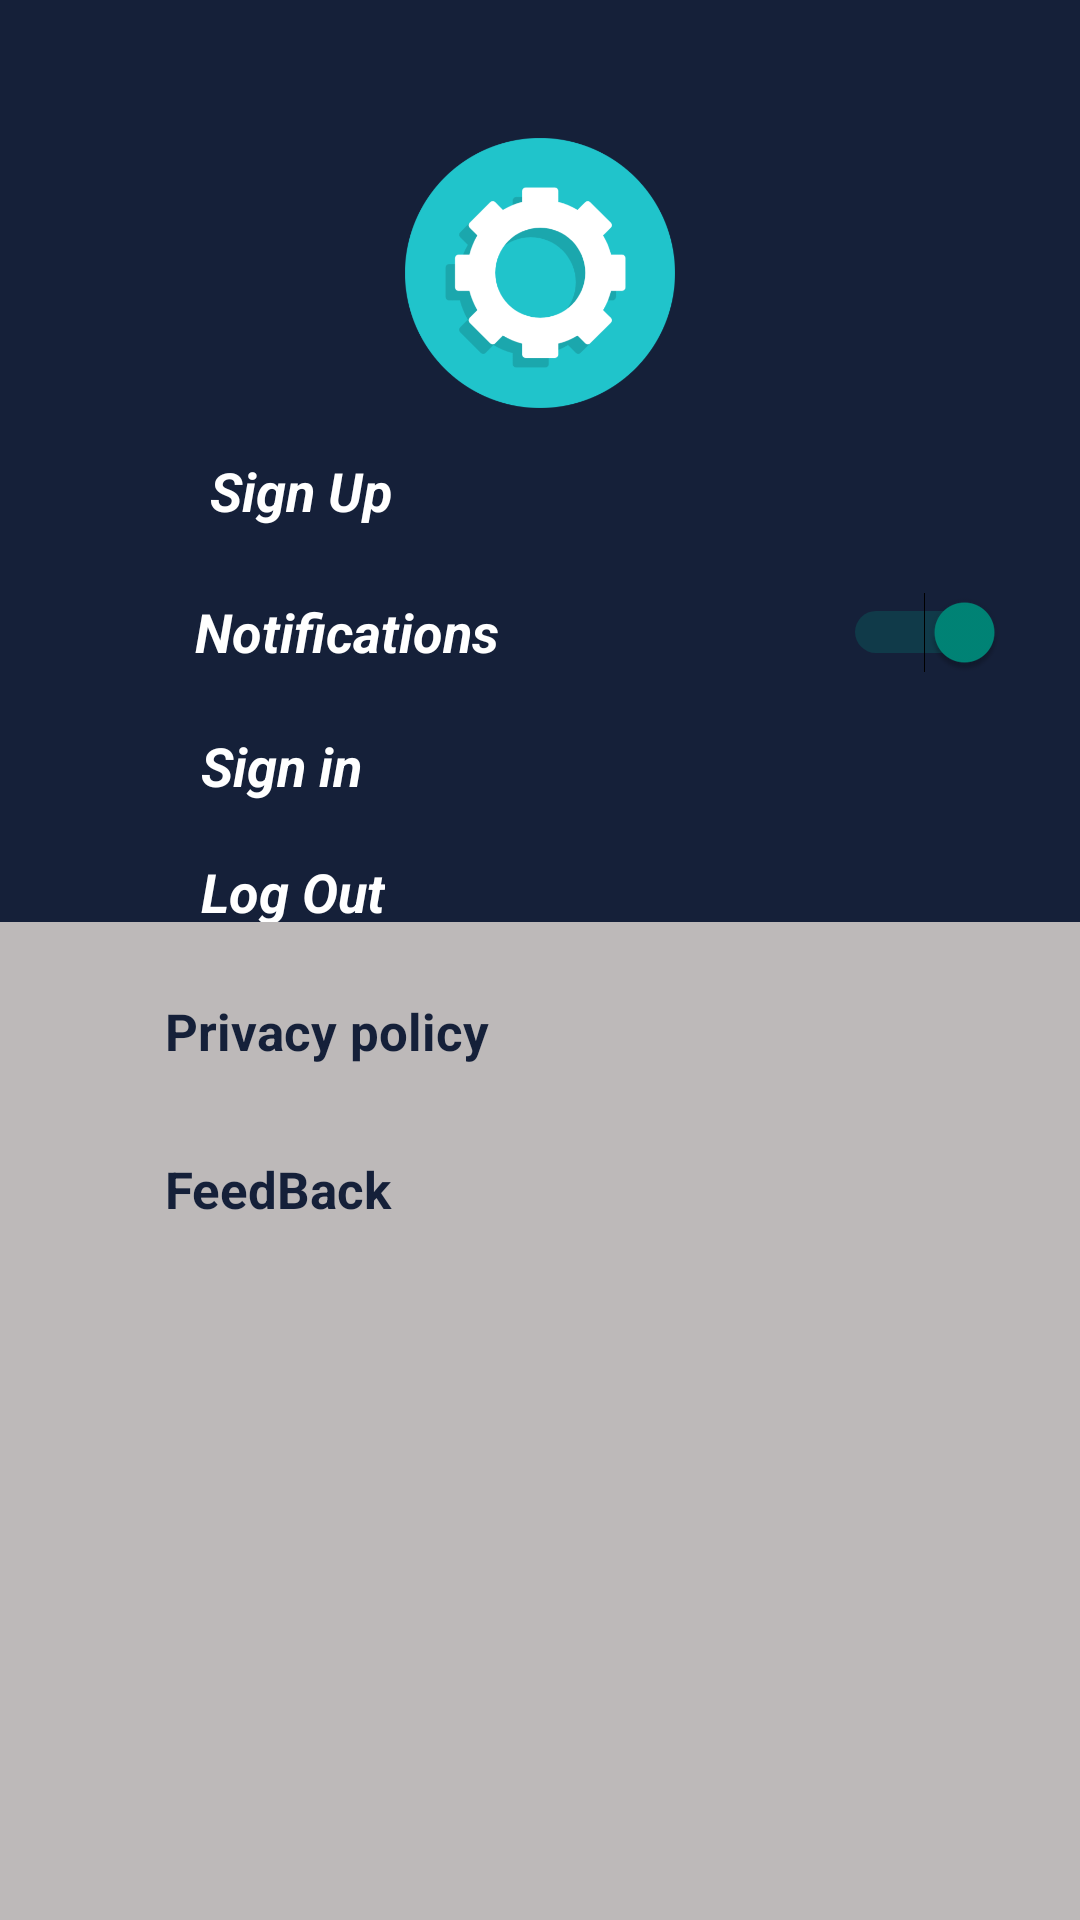

Screen size 1080*1920. Icon name, then its center in pixels as point (x, y):
settings: point (540, 273)
